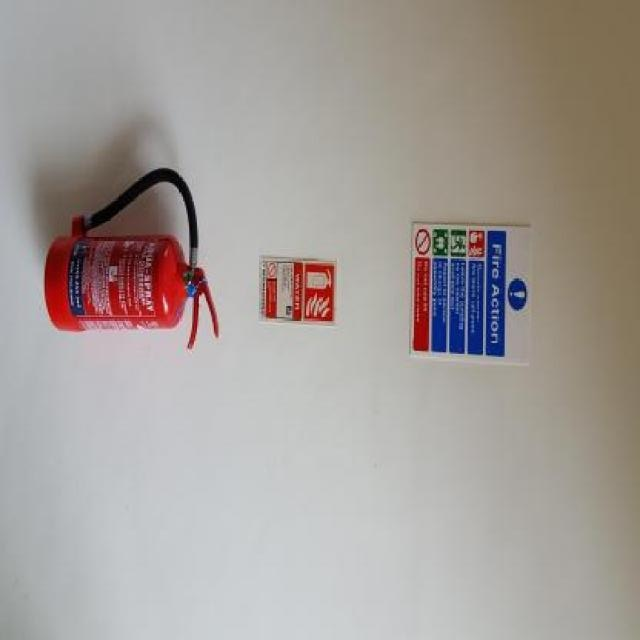fire extinguisher: (42, 158, 222, 364)
